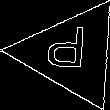P_S: (49, 27, 94, 80)
